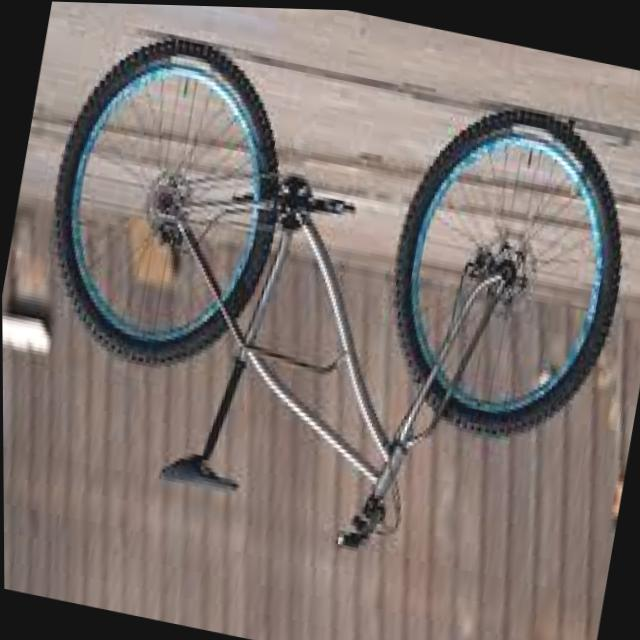mountain-bike: (3, 12, 640, 592)
